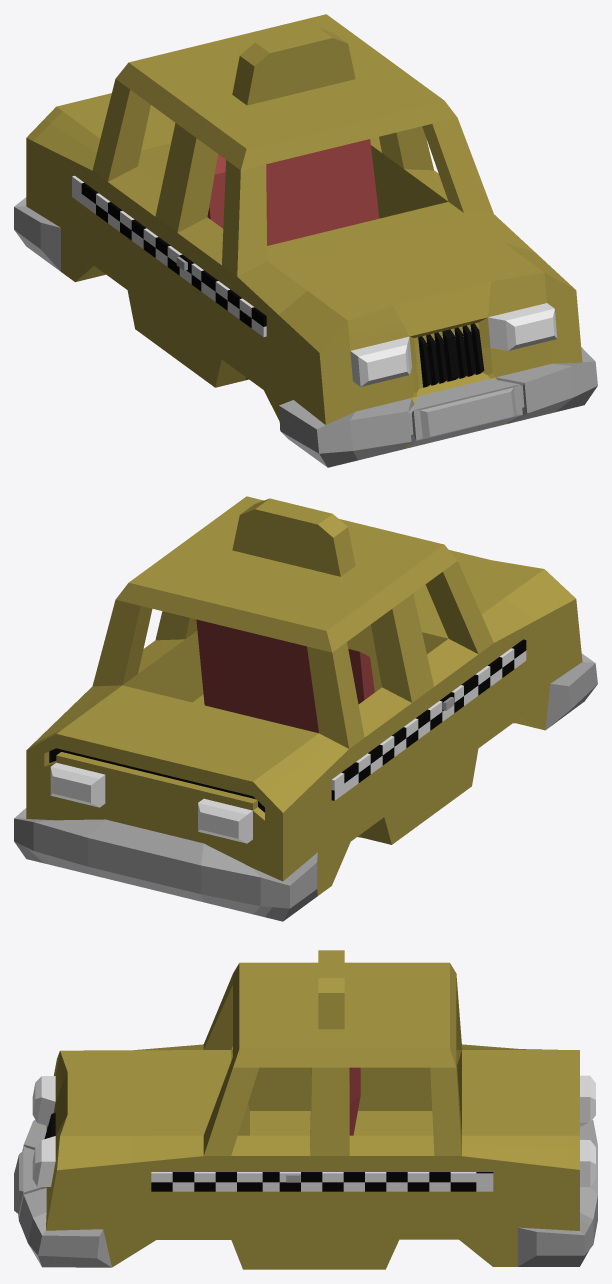
File: TaxiCorp.fbx
3 views of the same model, one above another, from view 1: azimuth 30°, elevation 25°; view 2: azimuth 150°, elevation 25°; view 3: azimuth 270°, elevation 25° (orthographic). The views are drawn at different scales.
Visible parts, largest first — view 1: pCube2; view 2: pCube2; view 3: pCube2.
Boxes of the visible parts, box(x1,y1,x2,y2) form: pCube2: box(14, 14, 597, 467); pCube2: box(14, 496, 597, 921); pCube2: box(14, 950, 597, 1269).
Bounding box in the file's own units: 2.66 × 2.46 × 5.2.
